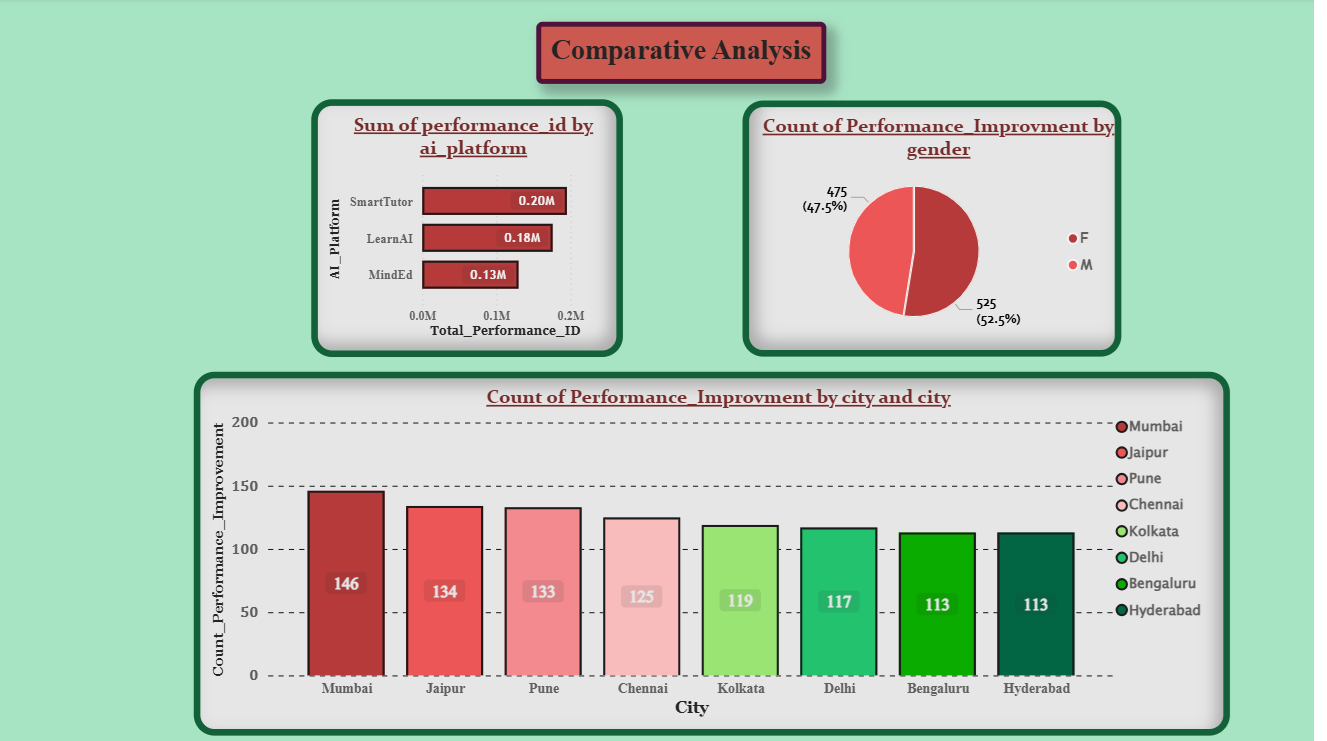

What the dashboard file says about the page in this screenshot:
{"tool":"powerbi","page":{"name":"Comparative_Analysis","canvas":[1280,720],"ordinal":2},"visuals":[{"type":"textbox","box":[522.8,23.3,279.9,60.4],"z":0},{"type":"clusteredBarChart","fields":{"Category":["colleges.ai_platform"],"Y":["Sum(performance.performance_id)"]},"box":[305.2,97.7,300.4,248.5],"z":1000},{"type":"pieChart","fields":{"Category":["students.gender"],"Y":["CountNonNull(performance.Performance_Improvment)"]},"box":[721.5,98.9,365.6,247.3],"z":2000},{"type":"columnChart","fields":{"Category":["colleges.city"],"Y":["CountNonNull(performance.Performance_Improvment)"],"Series":["colleges.city"]},"box":[191.8,360.7,1000.1,351.1],"z":3000}]}

Visuals, with their boxes in screenshot pixels (x1, y1, x2, y2), scaled from the page's 1280x720 canvas onto the 1327x741 screenshot:
textbox: bbox=(542, 24, 832, 86)
clusteredBarChart - colleges.ai_platform x Sum(performance.performance_id): bbox=(316, 101, 628, 356)
pieChart - students.gender x CountNonNull(performance.Performance_Improvment): bbox=(748, 102, 1127, 356)
columnChart - colleges.city x CountNonNull(performance.Performance_Improvment): bbox=(199, 371, 1236, 733)
